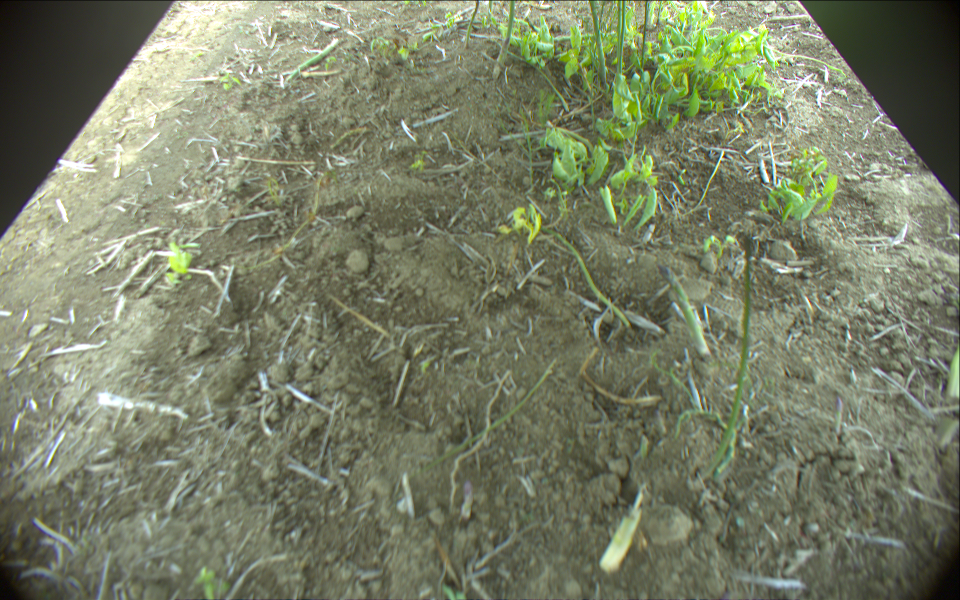aspa: (700, 231, 757, 480), (542, 223, 634, 326), (657, 264, 714, 356), (599, 500, 644, 574), (288, 38, 336, 84), (589, 1, 608, 92), (494, 1, 515, 78), (614, 1, 627, 84), (641, 1, 651, 77), (463, 1, 478, 48)
